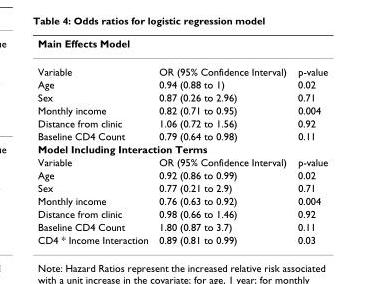table: (37, 36, 327, 245)
table column: (152, 36, 291, 245), (37, 36, 152, 245), (291, 36, 327, 245)
table column header: (37, 36, 327, 77)
table projected row header: (37, 142, 327, 155)
table row: (37, 36, 327, 57), (37, 57, 327, 77), (37, 77, 327, 90), (37, 90, 327, 103), (37, 103, 327, 116), (37, 116, 327, 129), (37, 129, 327, 142), (37, 142, 327, 155), (37, 155, 327, 168), (37, 168, 327, 181), (37, 181, 327, 194), (37, 206, 327, 219), (37, 219, 327, 232), (37, 232, 327, 245), (37, 194, 327, 206)
table spanning cell: (37, 36, 327, 57)
